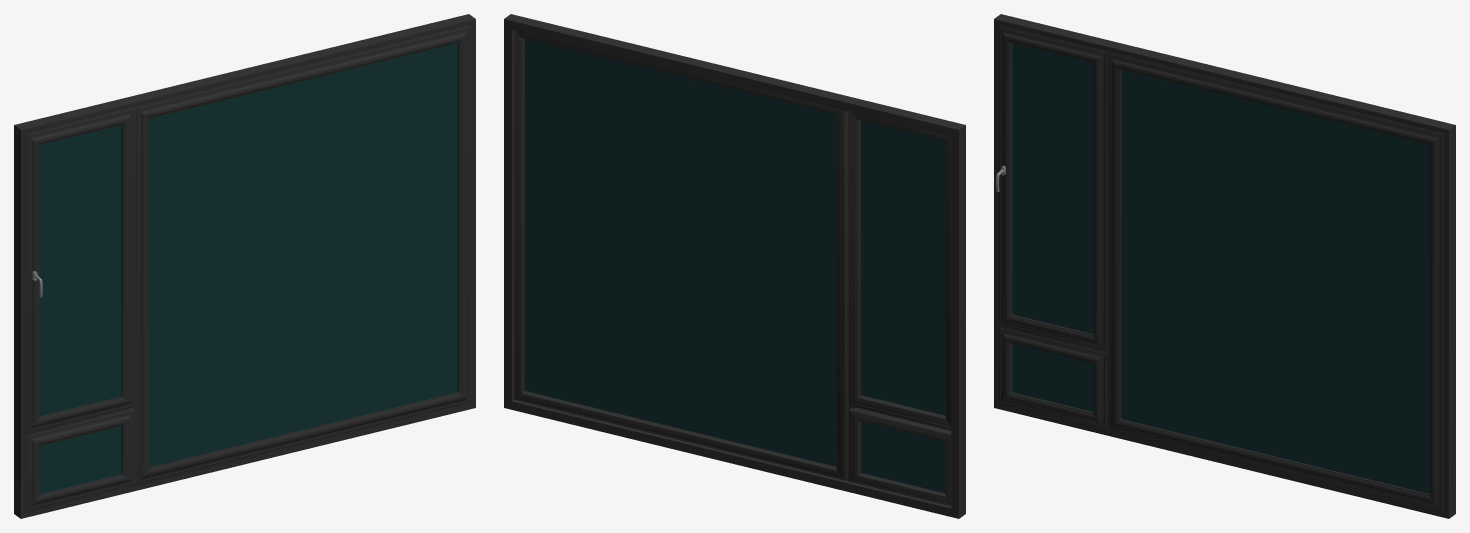
The model's file is zhuwochuanghu2-950eb970.glb.
The picture shows the model from 3 angles, left to right: view 1: azimuth 30°, elevation 25°; view 2: azimuth 150°, elevation 25°; view 3: azimuth 330°, elevation 25°; orthographic projection.
Visible parts, largest first — view 1: root; view 2: root; view 3: root.
Part boxes in pixels (<box>): root: <box>14,14,475,518</box>; root: <box>504,14,965,518</box>; root: <box>994,14,1455,518</box>.
Bounding box in the file's own units: 0.4451 × 0.3637 × 0.0269.
